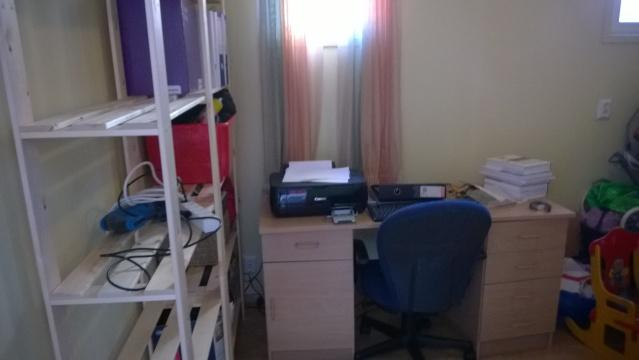Kursi: (354, 200, 492, 359)
Printer: (268, 161, 368, 223)
Rak: (0, 0, 242, 359)
